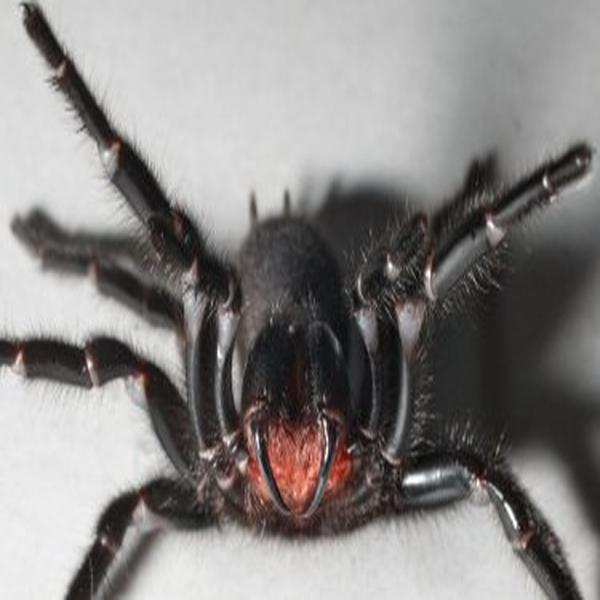Funnel Web Spider: (5, 7, 586, 595)
